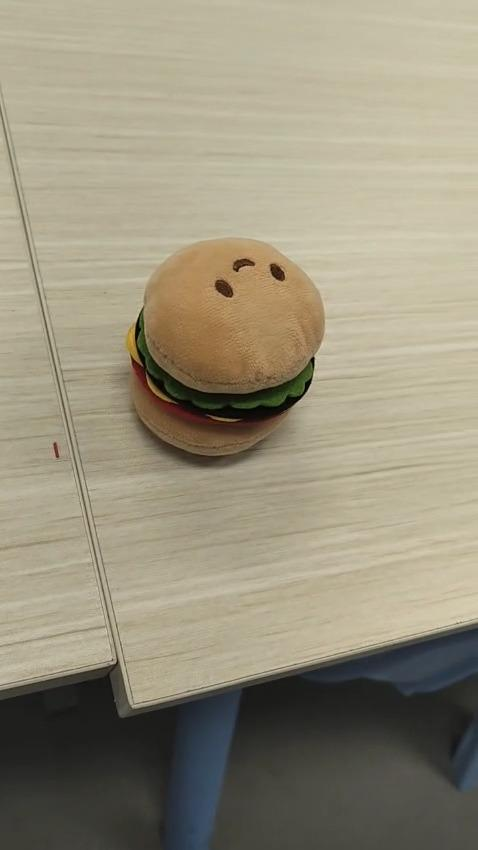hamburger: (125, 235, 325, 458)
